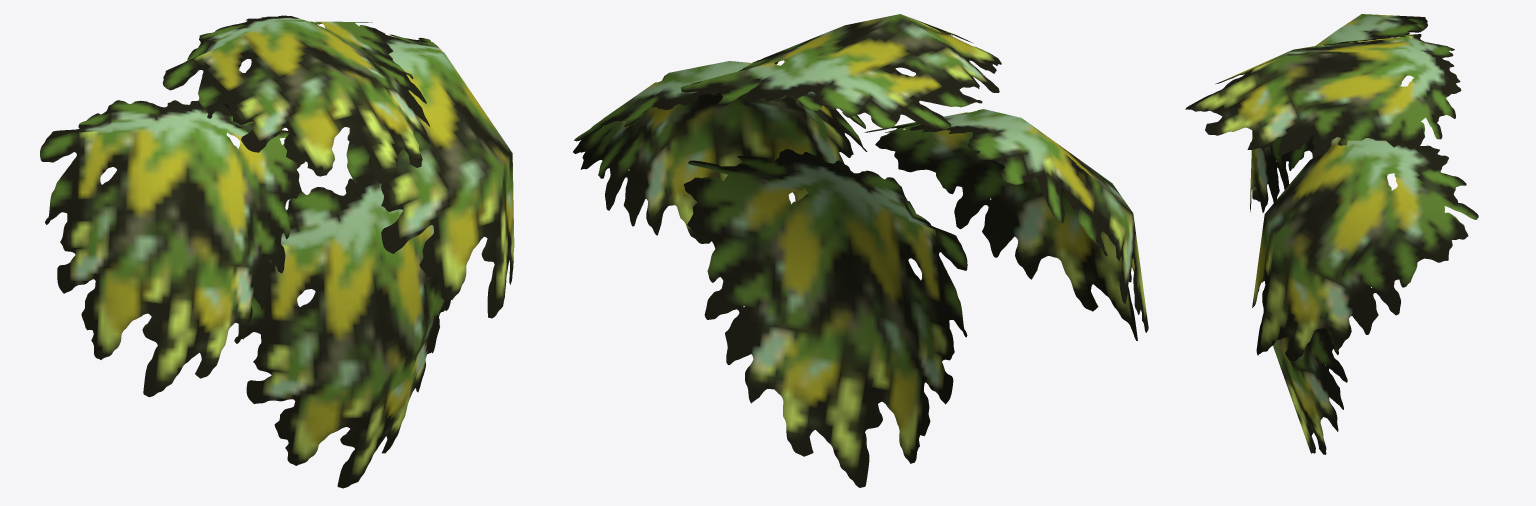
The model's file is foriage01.fbx.
The picture shows the model from 3 angles, left to right: view 1: azimuth 30°, elevation 25°; view 2: azimuth 150°, elevation 25°; view 3: azimuth 270°, elevation 25°; orthographic projection. The views are drawn at different scales.
Parts seen in each view (by area): view 1: foriage01; view 2: foriage01; view 3: foriage01.
Part boxes in pixels (x1=…): foriage01: x1=40, y1=15, x2=514, y2=488; foriage01: x1=573, y1=14, x2=1148, y2=487; foriage01: x1=1185, y1=14, x2=1478, y2=454.
Bounding box in the file's own units: 1.56 × 1.39 × 1.08.
